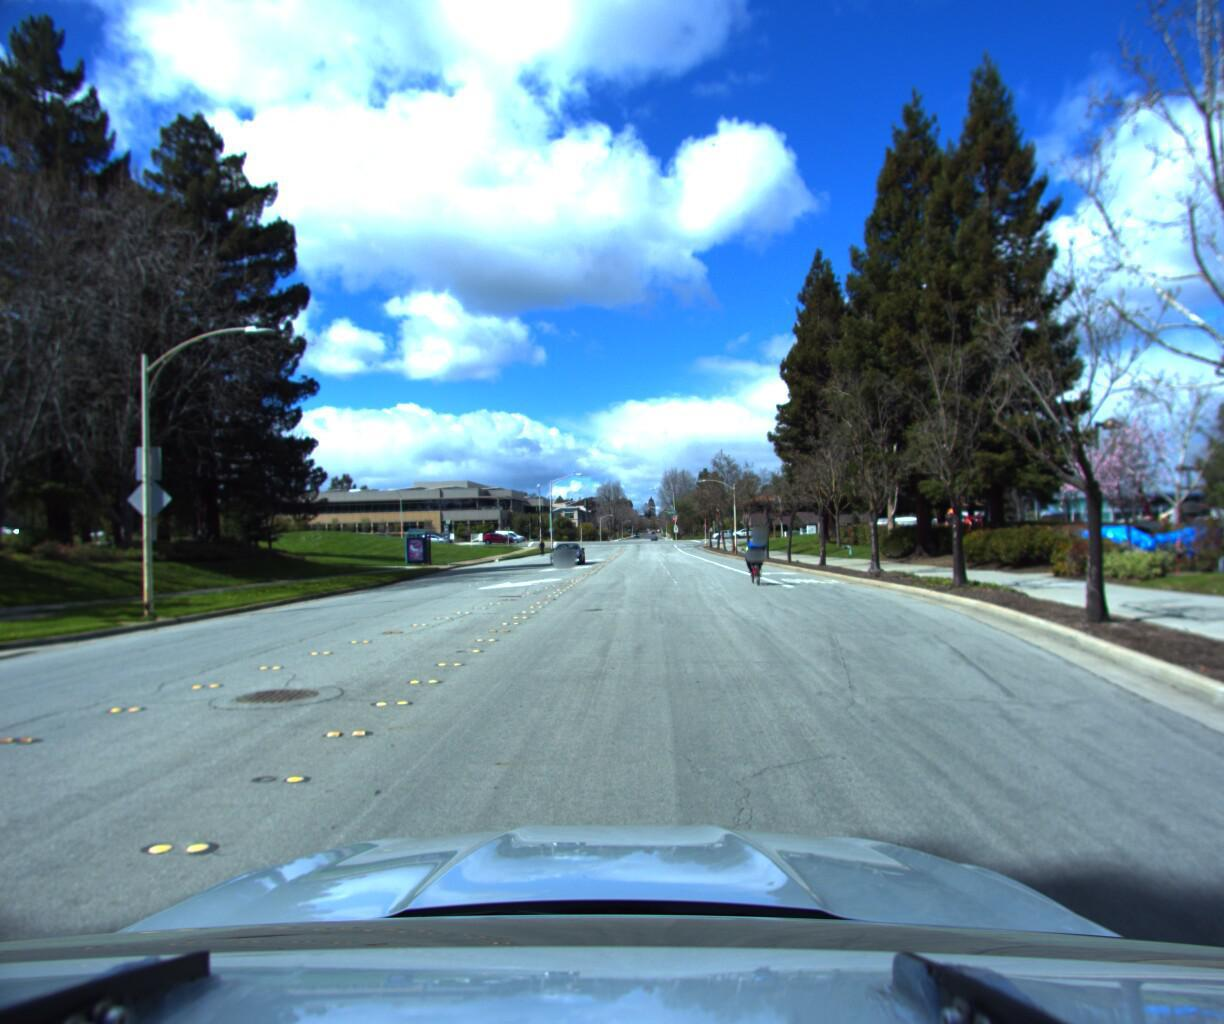bicycle: (738, 530, 769, 588), (535, 542, 547, 559)
car: (547, 542, 586, 567)
